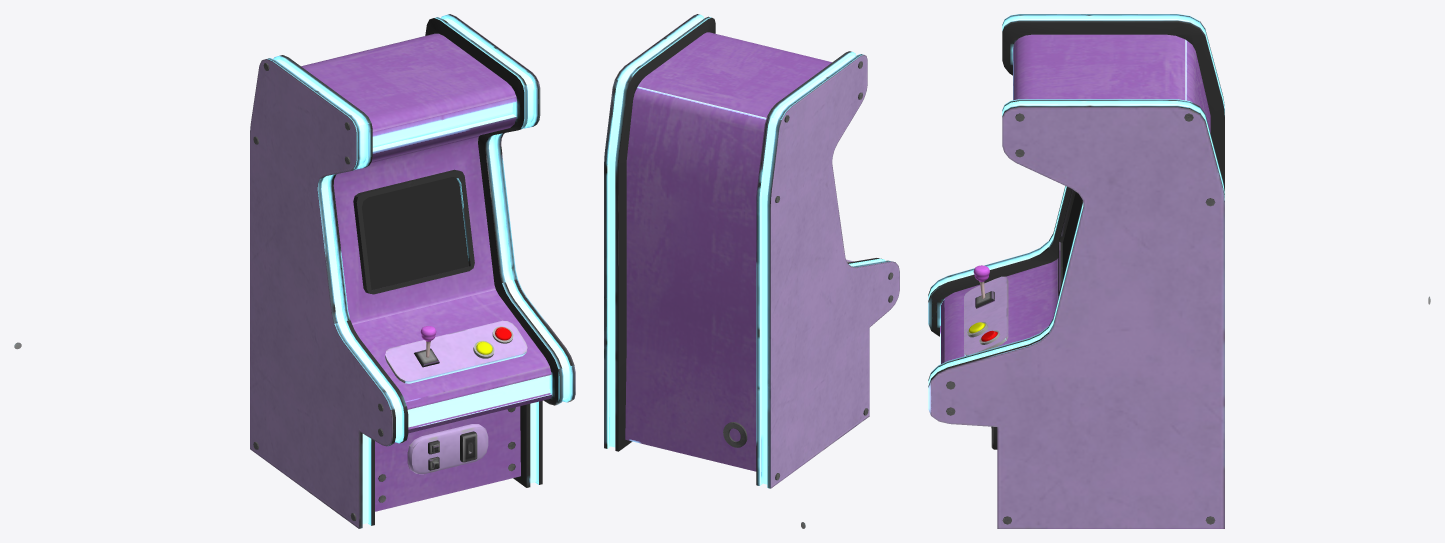
The model's file is arcade-machine.glb.
The picture shows the model from 3 angles, left to right: view 1: azimuth 30°, elevation 25°; view 2: azimuth 150°, elevation 25°; view 3: azimuth 270°, elevation 25°; orthographic projection. The views are drawn at different scales.
Visible parts, largest first — view 1: Cube.001, Cube.008; view 2: Cube.001, Cube.006; view 3: Cube.001, Cube.008.
Boxes of the visible parts, box(x1,y1,x2,y2) form: Cube.001: box(14, 14, 575, 528); Cube.008: box(362, 177, 468, 290); Cube.001: box(604, 14, 899, 528); Cube.006: box(723, 422, 747, 447); Cube.001: box(928, 14, 1430, 528); Cube.008: box(1062, 192, 1081, 278).
Size of the model in its own units: 50.11 by 60.15 by 64.94.
Materials: 6 (6 with a texture image).
